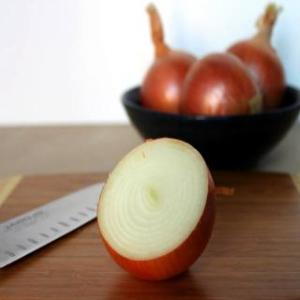onion: (96, 136, 219, 284)
